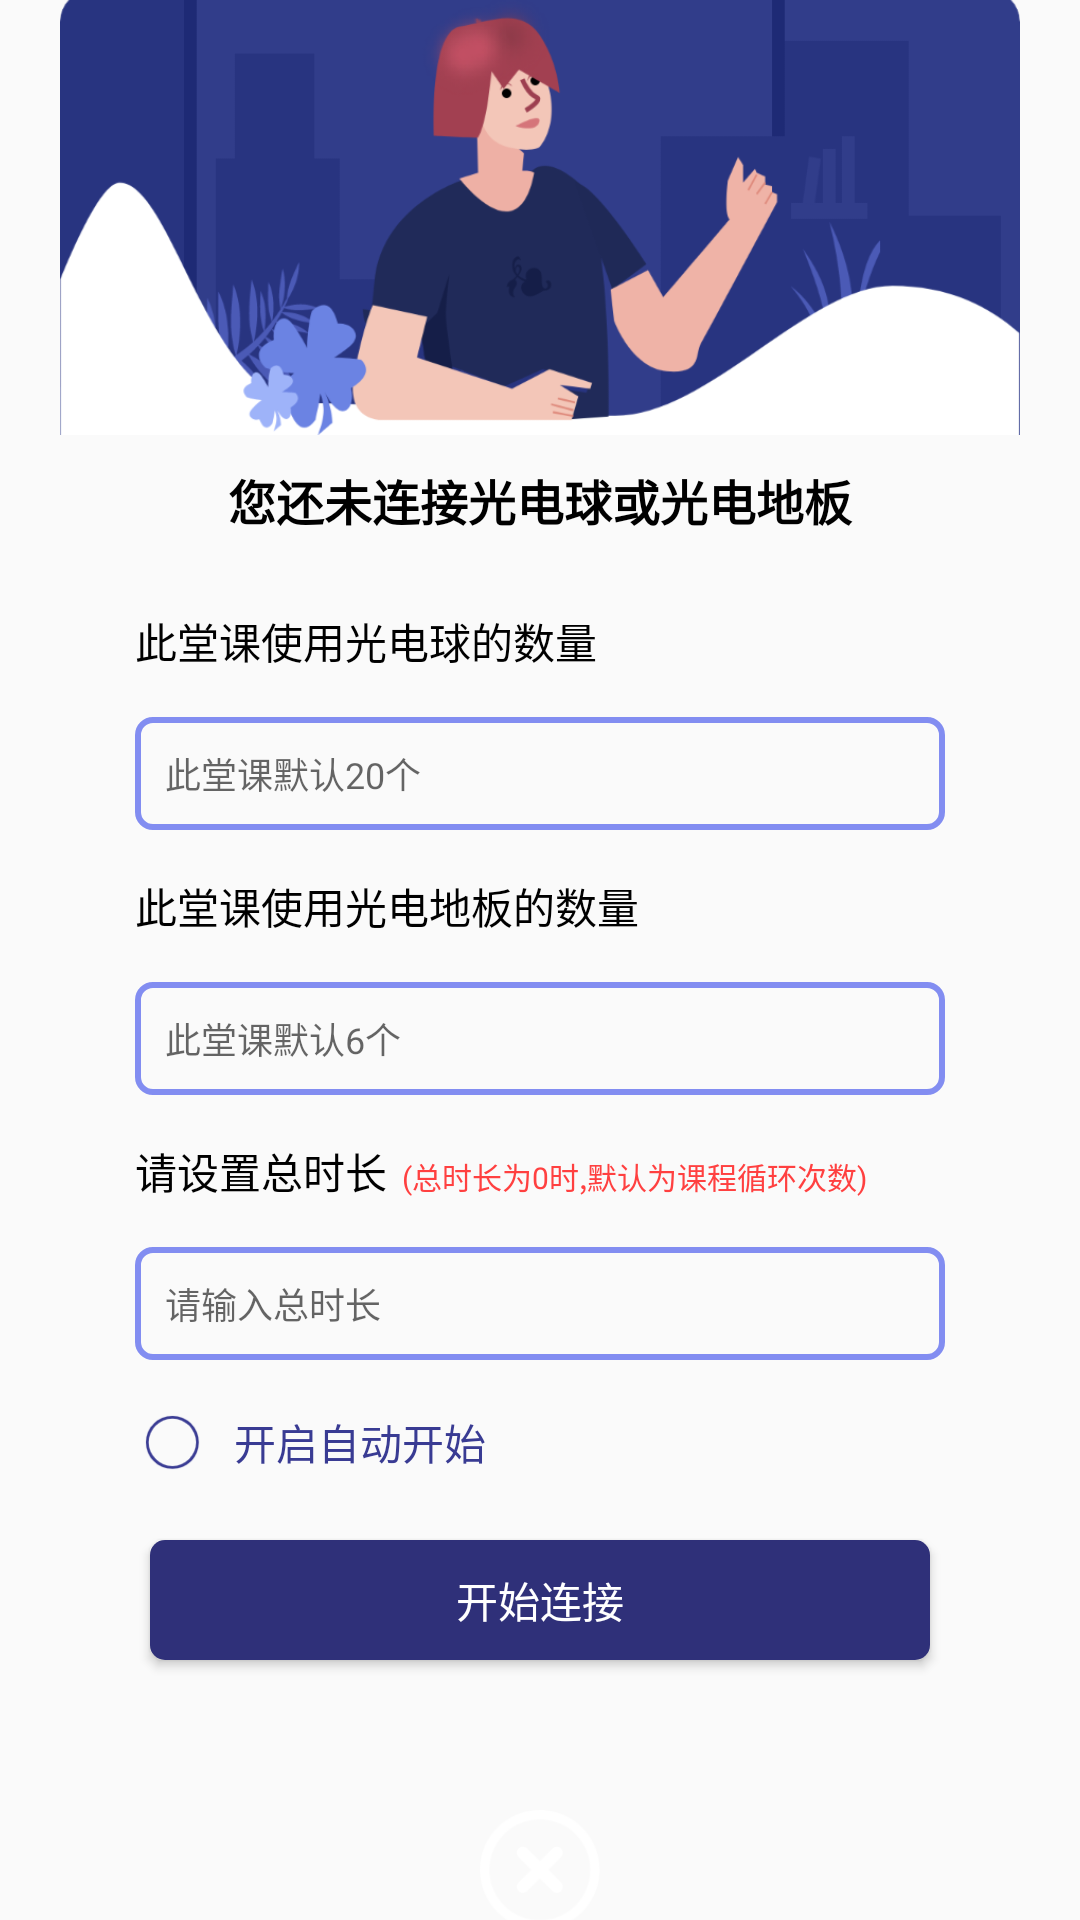

Icon bounding boxes for this 1080×1920 phone screenshot, format (x1, y1, x2, y2):
home select yuan dui: (146, 1416, 199, 1469)
